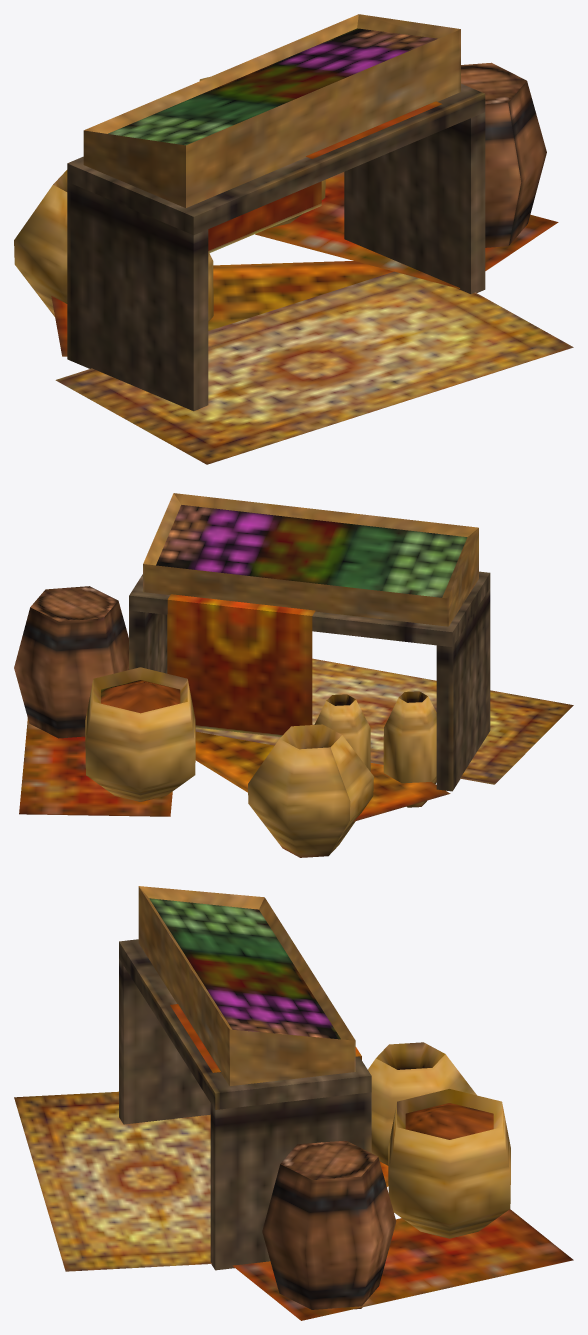
The model's file is treasure_persian_food_small.glb.
3 views of the same model, one above another, from view 1: azimuth 30°, elevation 25°; view 2: azimuth 150°, elevation 25°; view 3: azimuth 270°, elevation 25° (orthographic). The views are drawn at different scales.
Visible parts, largest first — view 1: treasure_persian_food_small_part0; view 2: treasure_persian_food_small_part0; view 3: treasure_persian_food_small_part0.
Boxes of the visible parts, x1,y1,x2,y2 form: treasure_persian_food_small_part0: (14,14,573,464); treasure_persian_food_small_part0: (14,493,573,857); treasure_persian_food_small_part0: (14,886,573,1320).
Size of the model in its own units: 3.13 by 1.65 by 3.13.
Materials: 1 (1 with a texture image).
